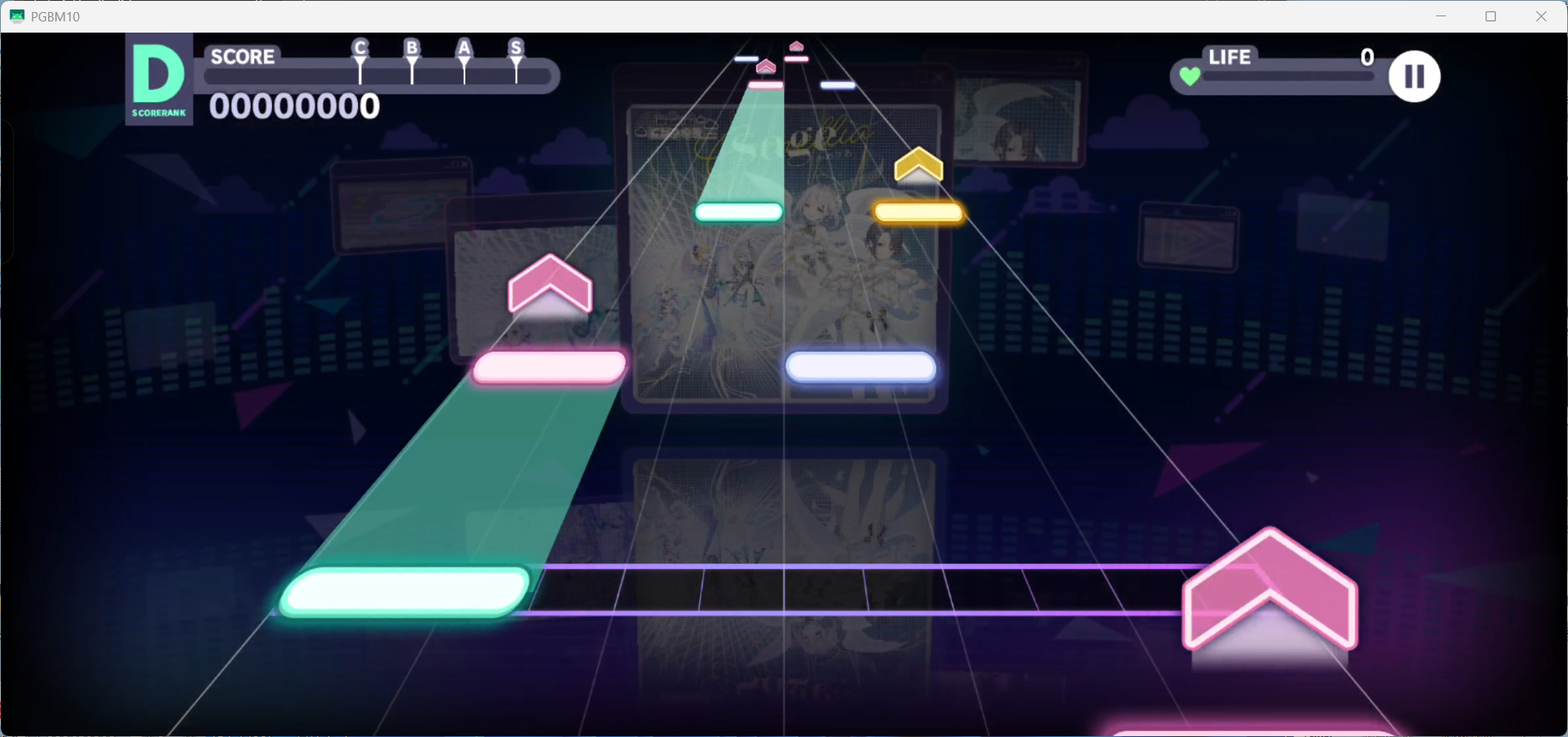flick: (1181, 523, 1358, 672), (507, 251, 593, 323), (893, 146, 944, 186), (756, 58, 776, 75), (789, 40, 804, 51)
hold: (300, 386, 621, 565), (697, 88, 784, 203)
tap: (280, 565, 530, 620), (471, 351, 626, 384), (785, 351, 937, 383), (695, 203, 783, 220), (748, 81, 784, 89), (820, 81, 855, 88), (784, 56, 809, 61), (734, 56, 758, 60)
